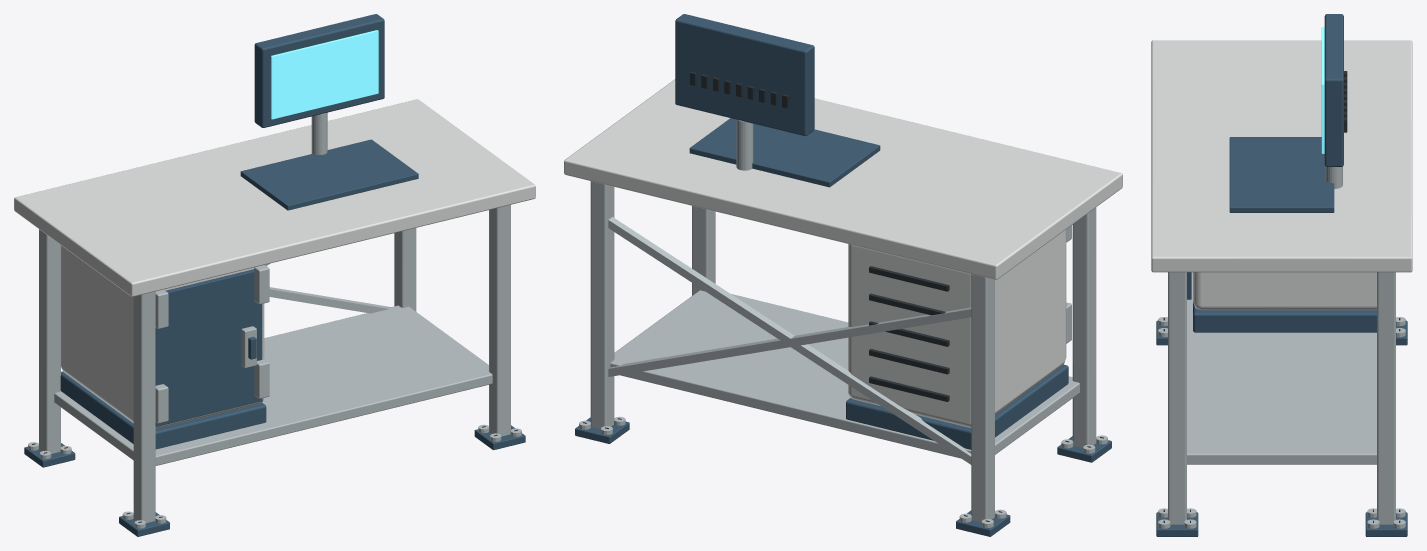
Rendered from container-inspection-and-customs-yard-container-inspec-1ea6acbd__29290.glb.
3 renders of one model, left to right at view 1: azimuth 30°, elevation 25°; view 2: azimuth 150°, elevation 25°; view 3: azimuth 270°, elevation 25°, orthographic. The views are drawn at different scales.
Visible parts, largest first — view 1: container-inspection-and-customs-yard-document-desk; view 2: container-inspection-and-customs-yard-document-desk; view 3: container-inspection-and-customs-yard-document-desk.
Part boxes in pixels (box(x1,y1,x2,y2)): container-inspection-and-customs-yard-document-desk: box(14, 14, 535, 536); container-inspection-and-customs-yard-document-desk: box(564, 14, 1122, 536); container-inspection-and-customs-yard-document-desk: box(1151, 14, 1412, 536).
Size of the model in its own units: 1.48 by 1.34 by 0.75.
